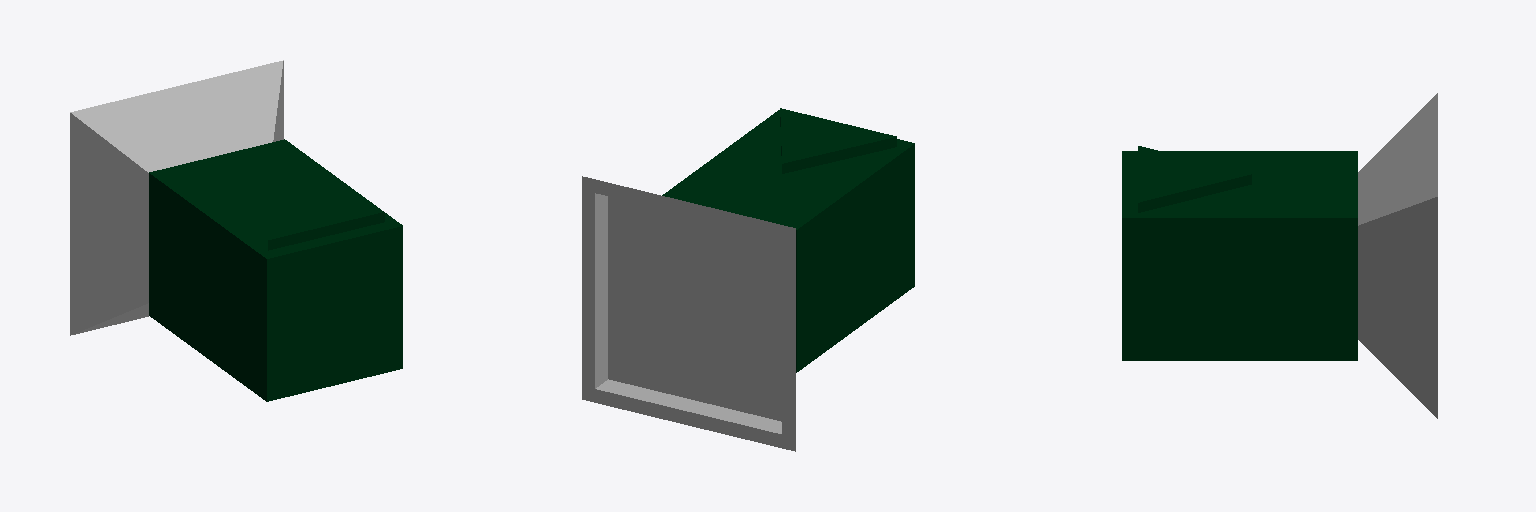
File: debug-camera.obj
3 views of the same model, side by side, from view 1: azimuth 30°, elevation 25°; view 2: azimuth 150°, elevation 25°; view 3: azimuth 270°, elevation 25° (orthographic).
Parts seen in each view (by area): view 1: Cube, Cone; view 2: Cone, Cube; view 3: Cube, Cone.
Part boxes in pixels (bbox=[...]): Cube: bbox=[149, 139, 402, 401]; Cone: bbox=[70, 60, 283, 335]; Cone: bbox=[582, 176, 795, 451]; Cube: bbox=[662, 108, 914, 372]; Cube: bbox=[1122, 146, 1357, 360]; Cone: bbox=[1358, 93, 1437, 418].
Bounding box in the file's own units: 0.3129 × 0.3129 × 0.4018.